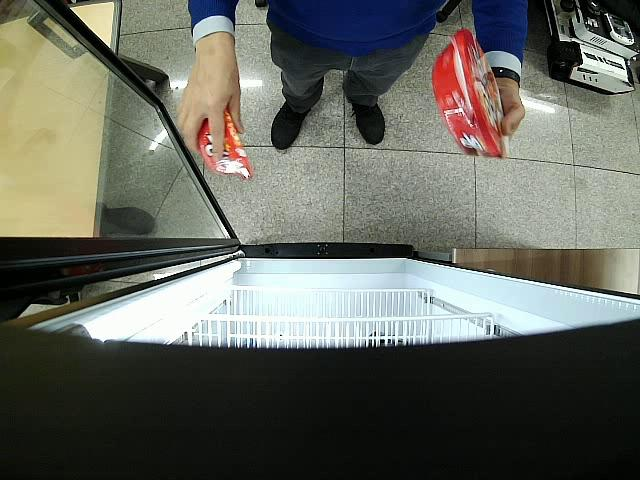00_hand: (177, 54, 245, 162), (495, 78, 525, 135)
10_wangTtukkeong: (432, 29, 510, 160), (199, 109, 254, 179)
